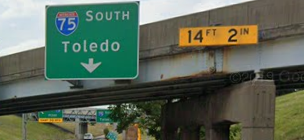1: (185, 28, 193, 44)
2: (226, 27, 238, 44)
4: (193, 28, 203, 45)
overheadsign: (177, 24, 262, 48)
